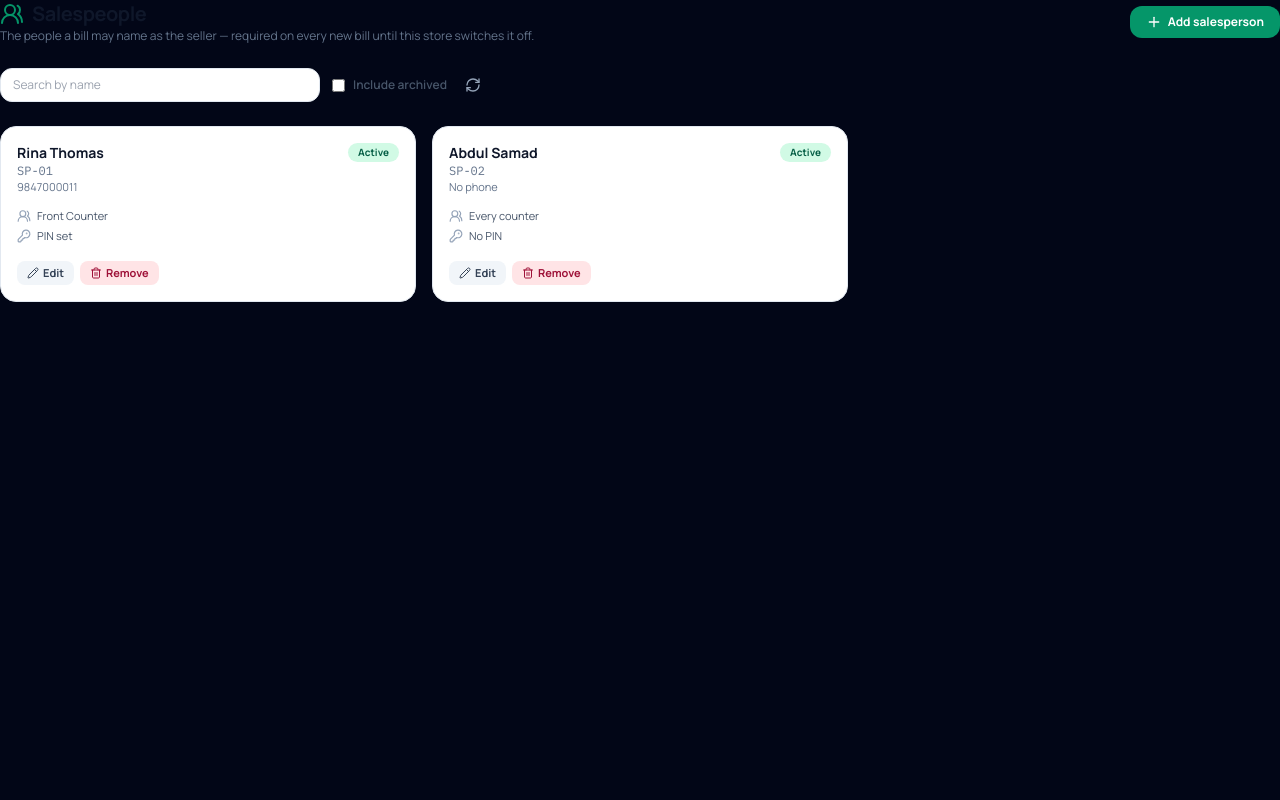
it: salespeople master › shows the server's refusal on the code field and keeps the dialog open
The image size is (1280, 800).
Expected: the text "Rina Thomas" is shown, [17,143,104,163]
Click the button "Add salesperson".
click(1205, 22)  # box [1130,6,1279,38]
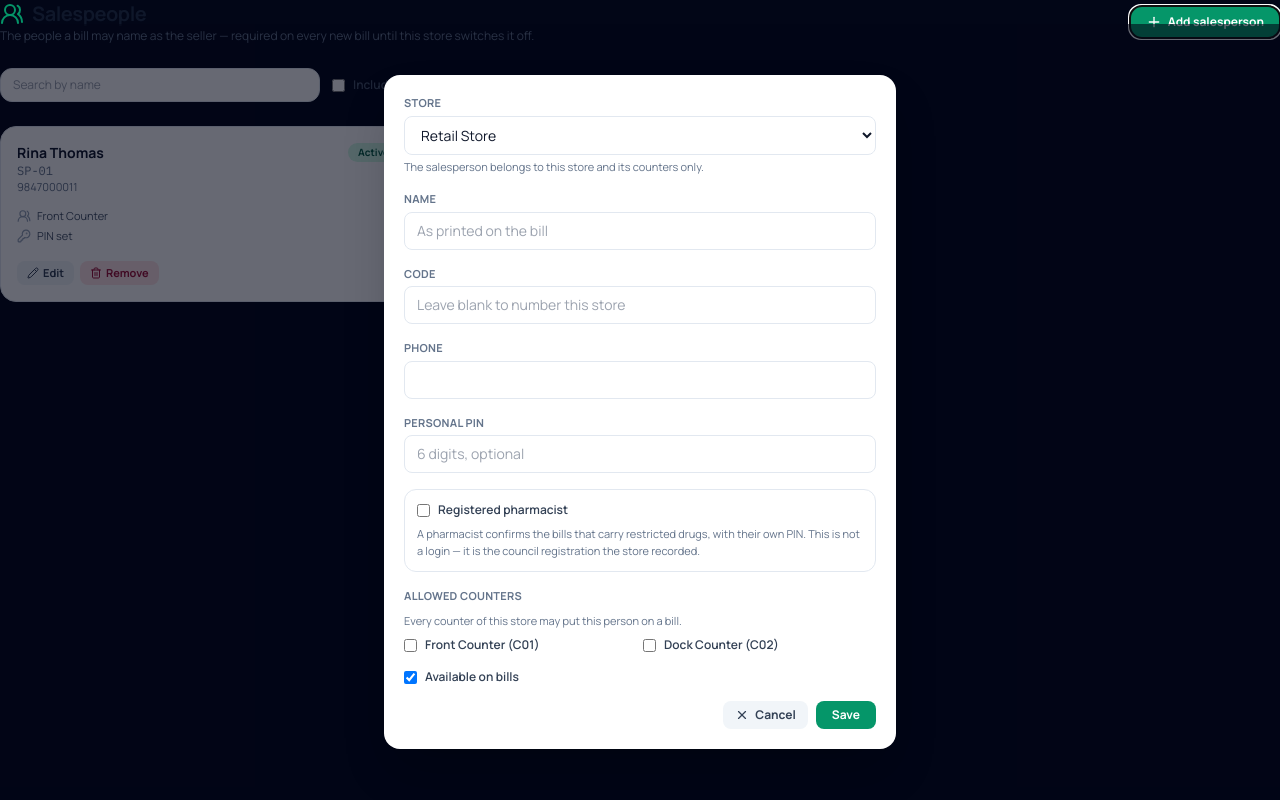
Type "Copycat" into the field labelled "Name".
click(640, 230); type("Copycat")  # box [404,212,876,250]
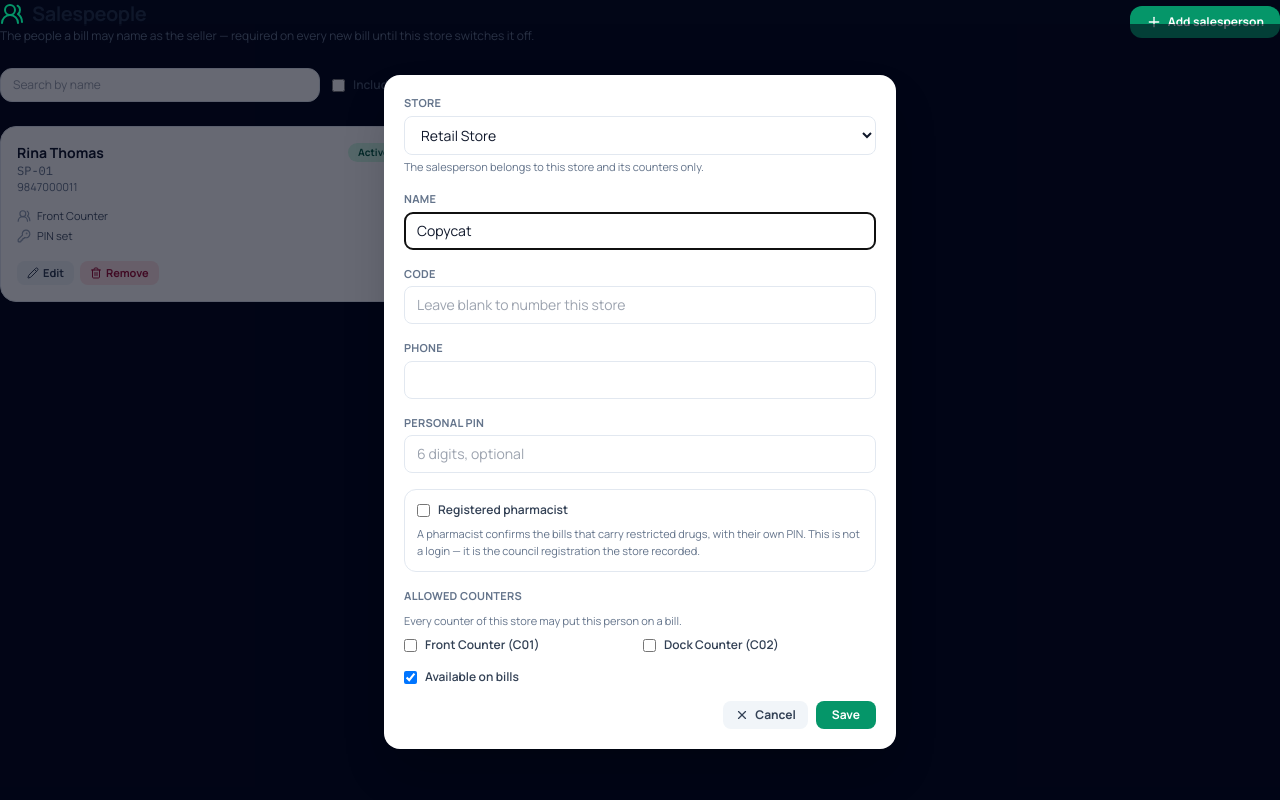
Type "sp-01" into the field labelled "Code".
click(640, 305); type("sp-01")  # box [404,286,876,324]
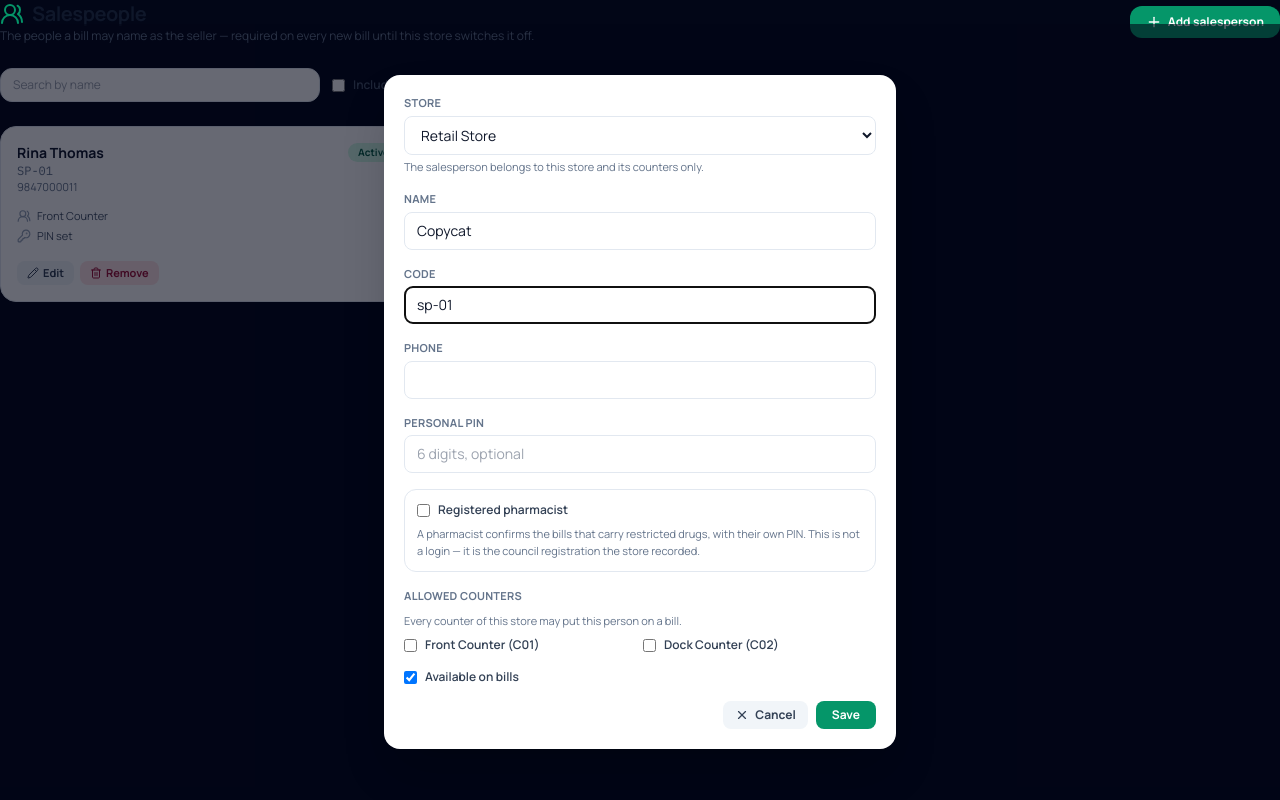
Click the button "Save".
click(846, 715)  # box [816,701,876,729]
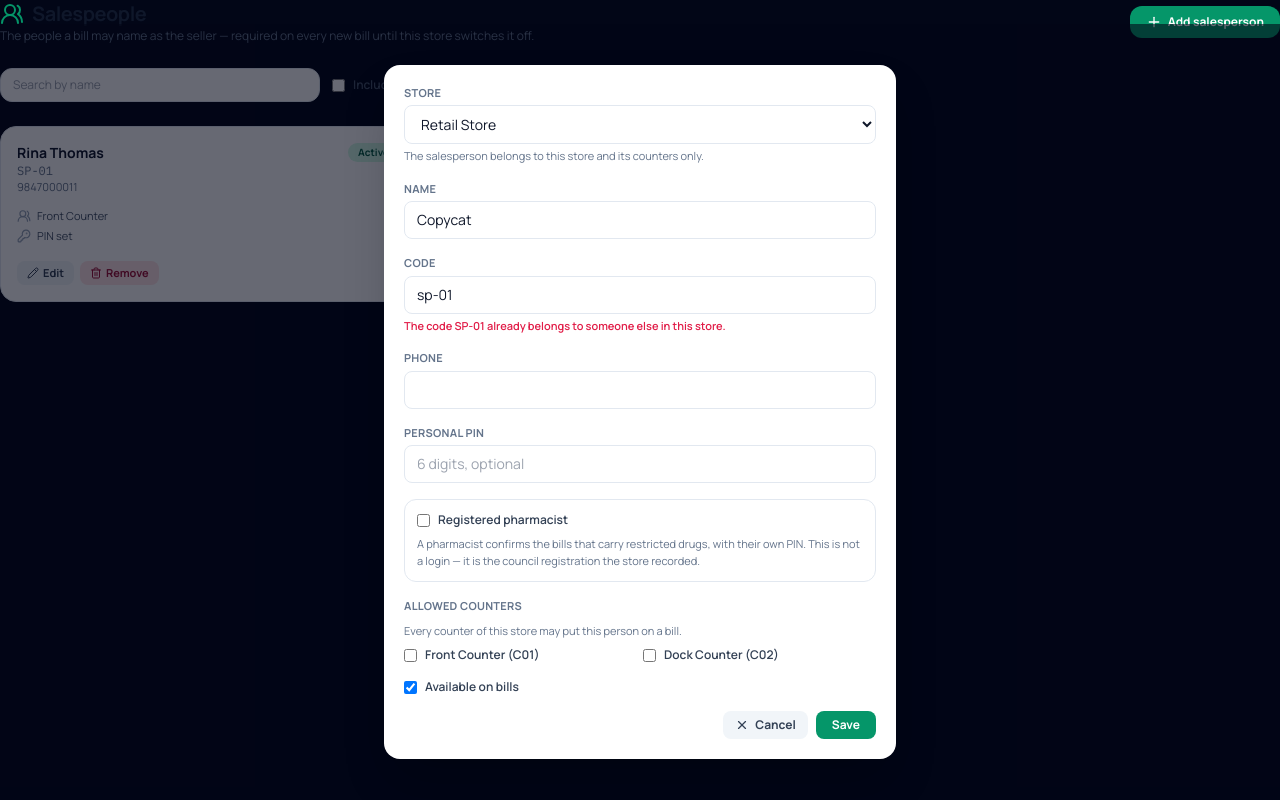
Expected: the dialog named "add salesperson" is shown
Expected: the text "The code SP-01 already belongs to someone else in this store." is shown, [404,318,726,333]
